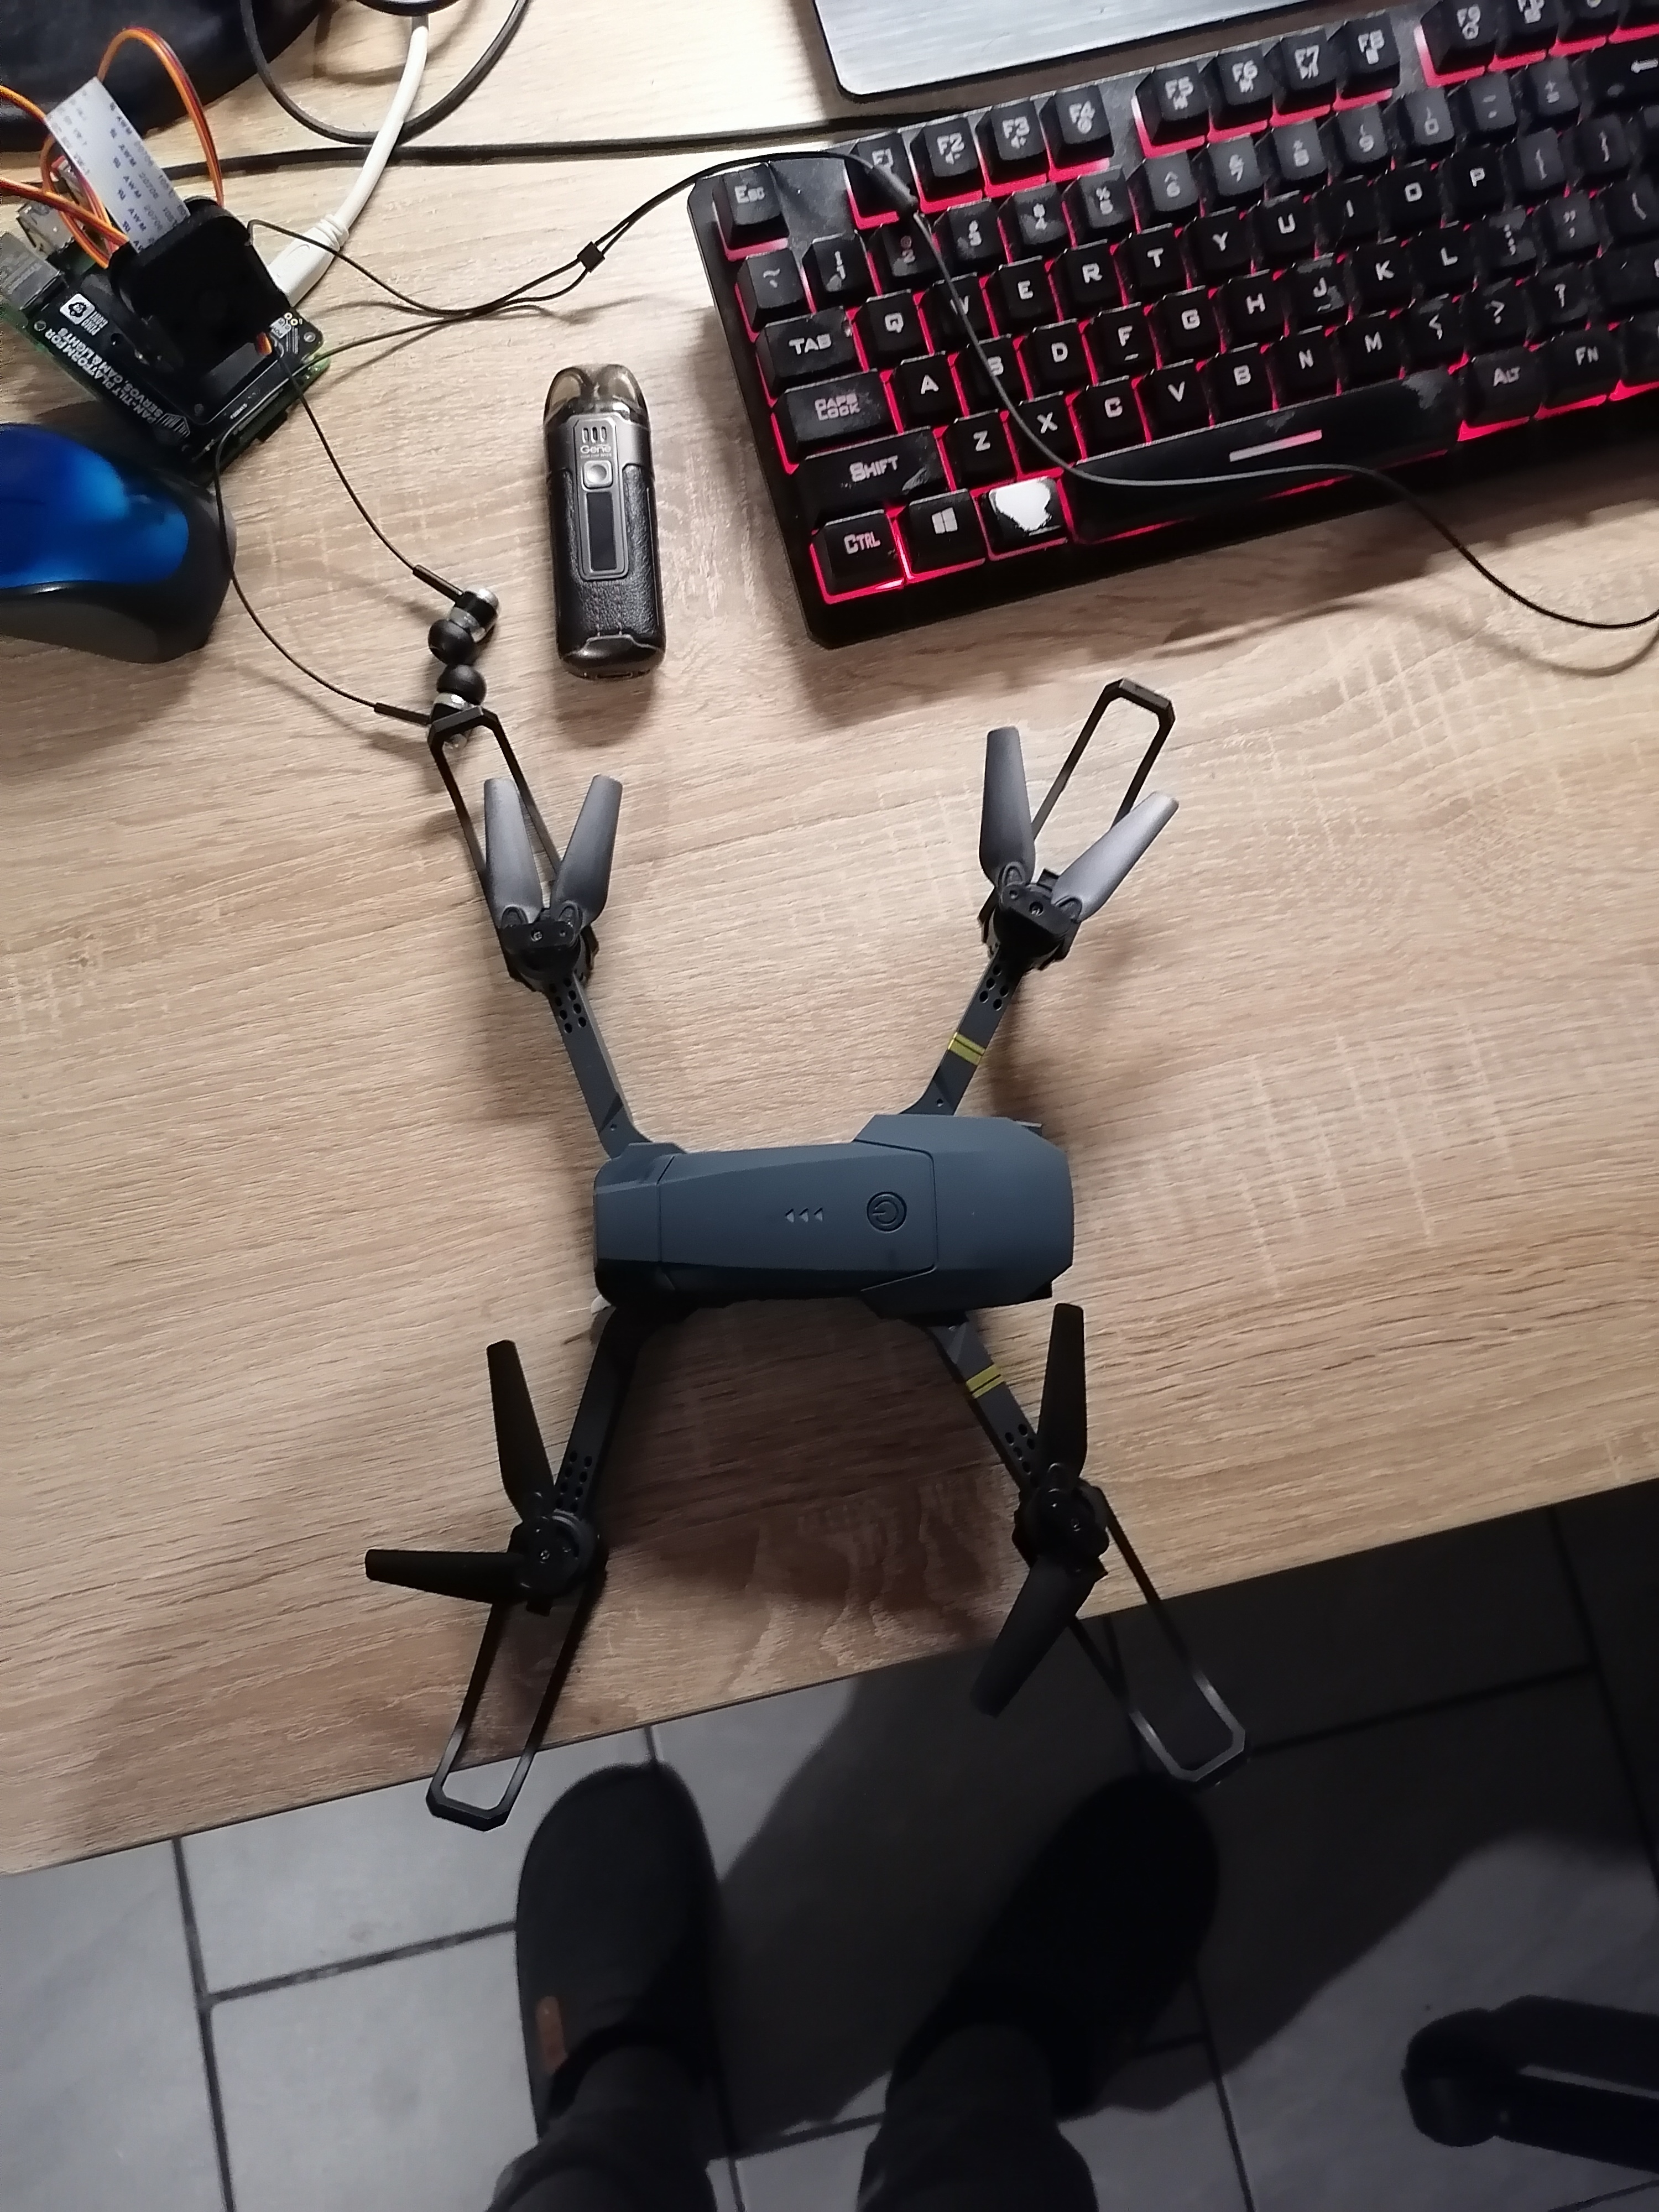drone: (340, 702, 1277, 1836)
